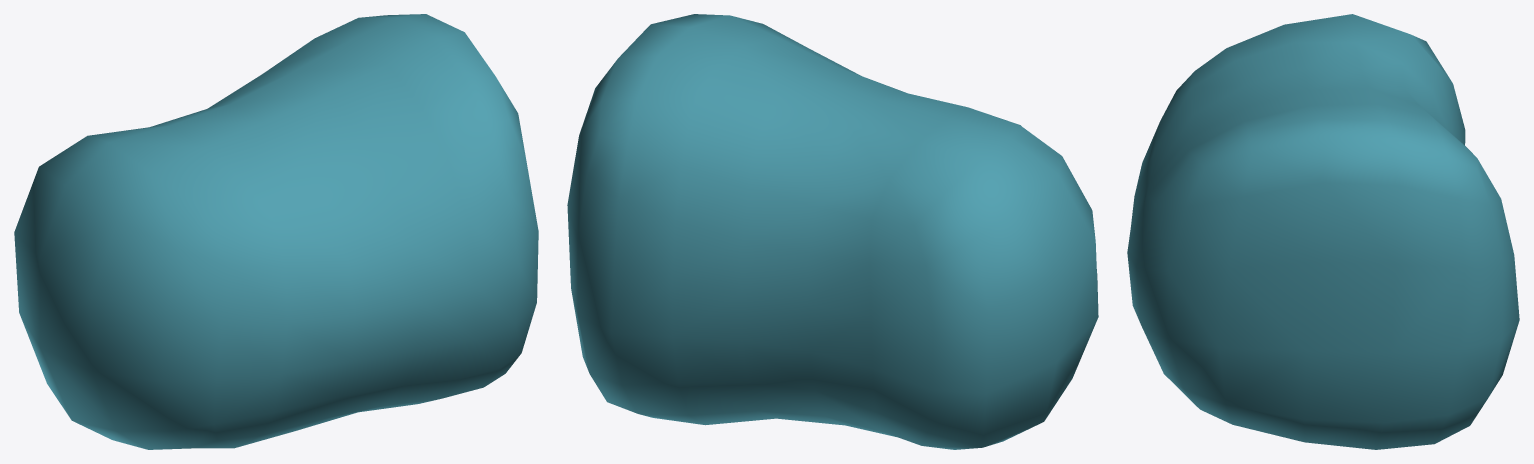
File: VIS_Alpha_Surface_040.dae
3 views of the same model, side by side, from view 1: azimuth 30°, elevation 25°; view 2: azimuth 150°, elevation 25°; view 3: azimuth 270°, elevation 25° (orthographic). The views are drawn at different scales.
Parts seen in each view (by area): view 1: VIS_Alpha_Surface_040; view 2: VIS_Alpha_Surface_040; view 3: VIS_Alpha_Surface_040.
Boxes of the visible parts, x1,y1,x2,y2 form: VIS_Alpha_Surface_040: [14, 14, 538, 449]; VIS_Alpha_Surface_040: [567, 14, 1098, 449]; VIS_Alpha_Surface_040: [1127, 14, 1519, 449].
Bounding box in the file's own units: 0.0347 × 0.0276 × 0.026.
